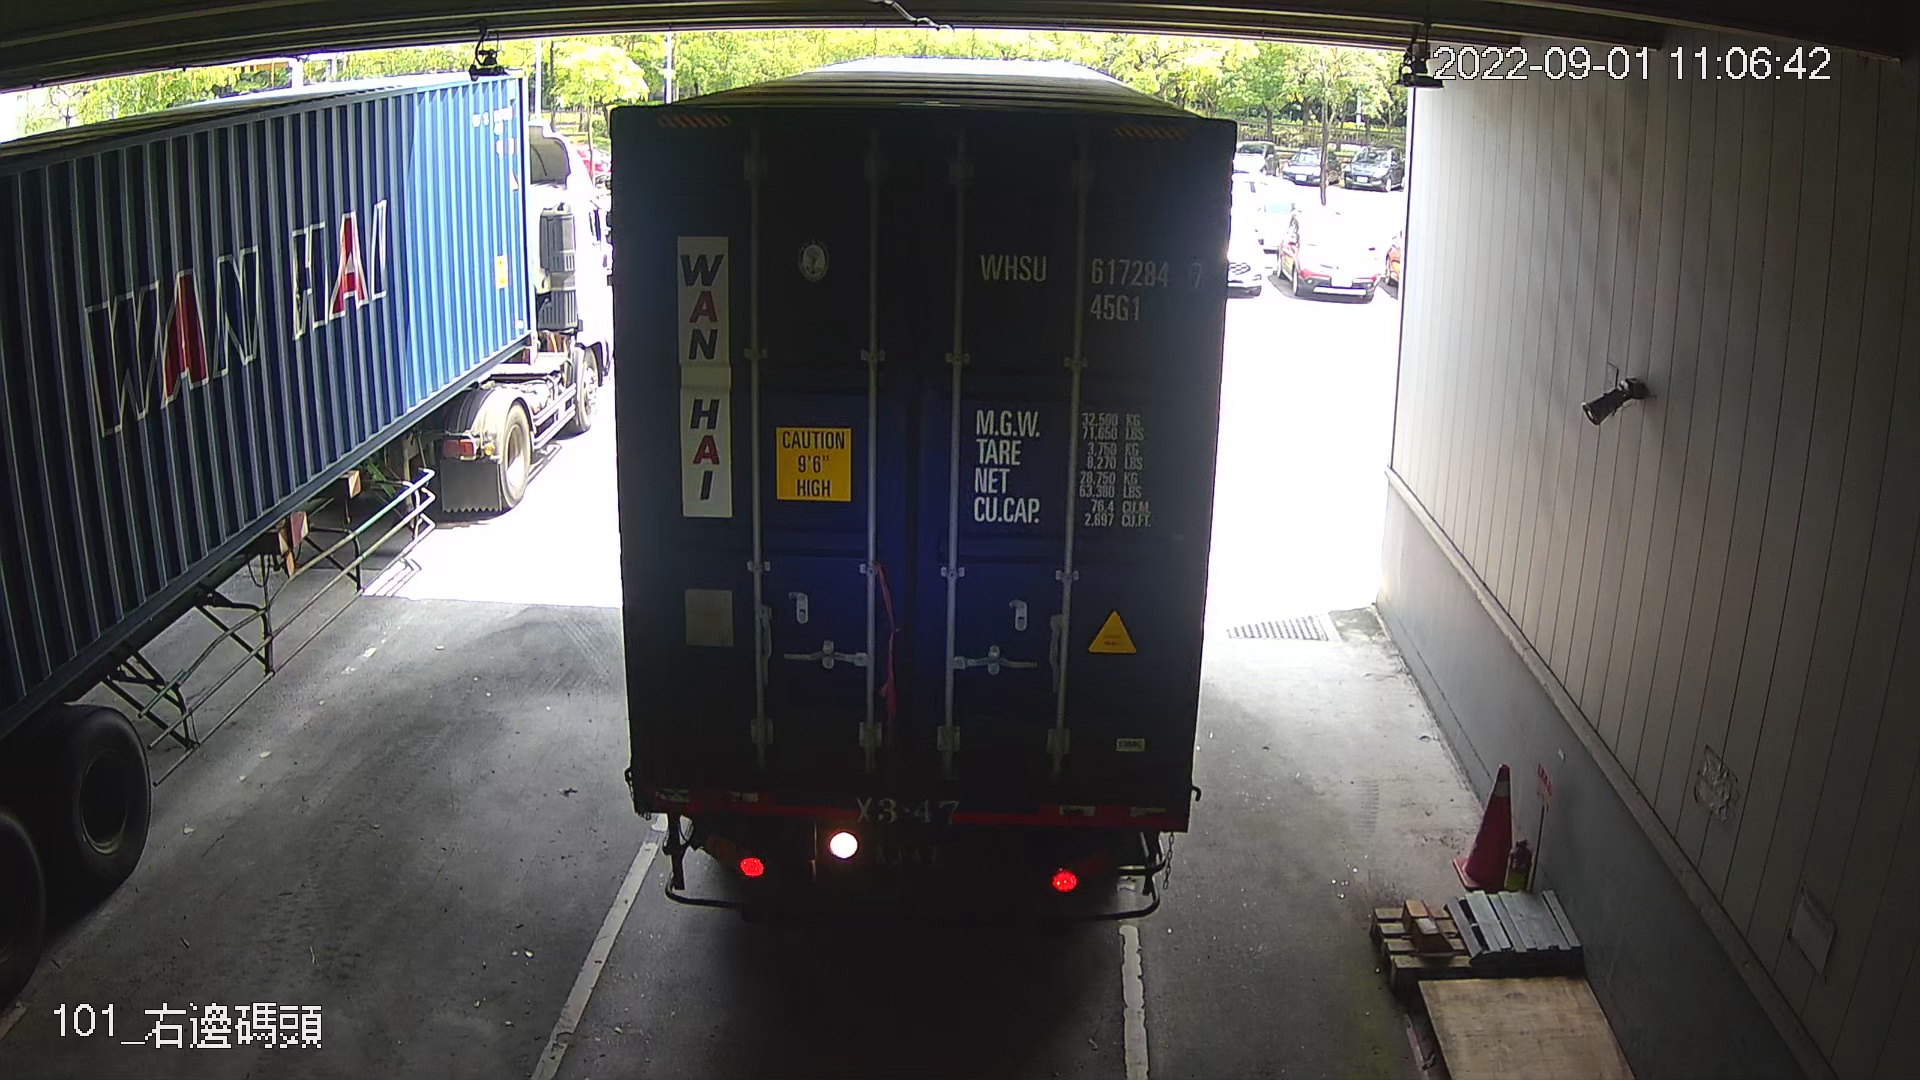container: (971, 243, 1217, 331)
